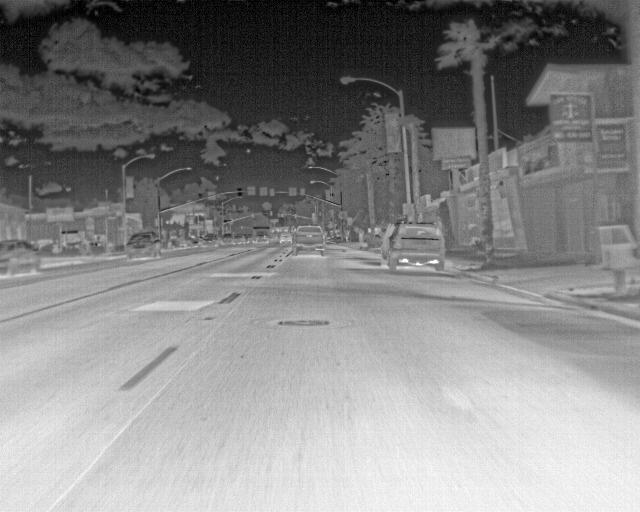car: (383, 223, 446, 273), (1, 237, 40, 277), (291, 224, 328, 254), (123, 232, 161, 260), (276, 232, 293, 247), (196, 233, 213, 246), (220, 233, 234, 248), (237, 233, 252, 246)
